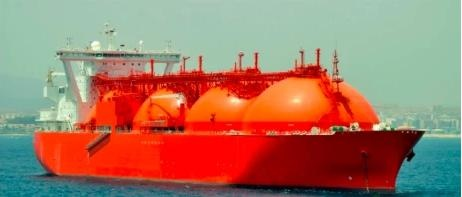Cargoship: (28, 45, 428, 189)
